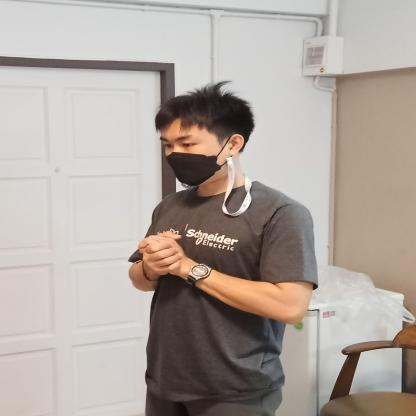Grieve: (122, 228, 252, 309)
